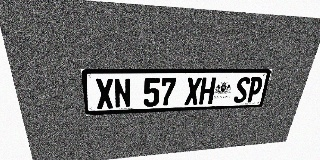5: (144, 78, 160, 107)
7: (159, 78, 176, 106)
H: (199, 77, 216, 105)
N: (113, 78, 131, 108)
P: (246, 77, 264, 102)
S: (233, 77, 251, 103)
X: (95, 78, 114, 109), (184, 77, 202, 105)
